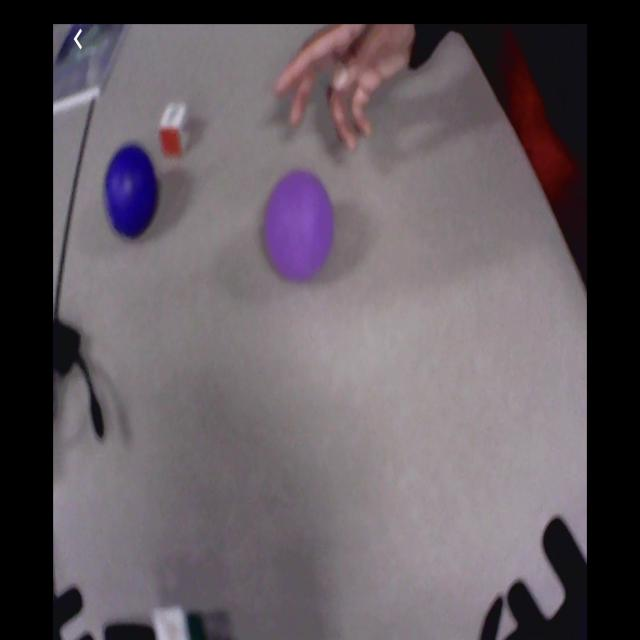ball: (261, 172, 336, 278), (105, 143, 159, 240)
